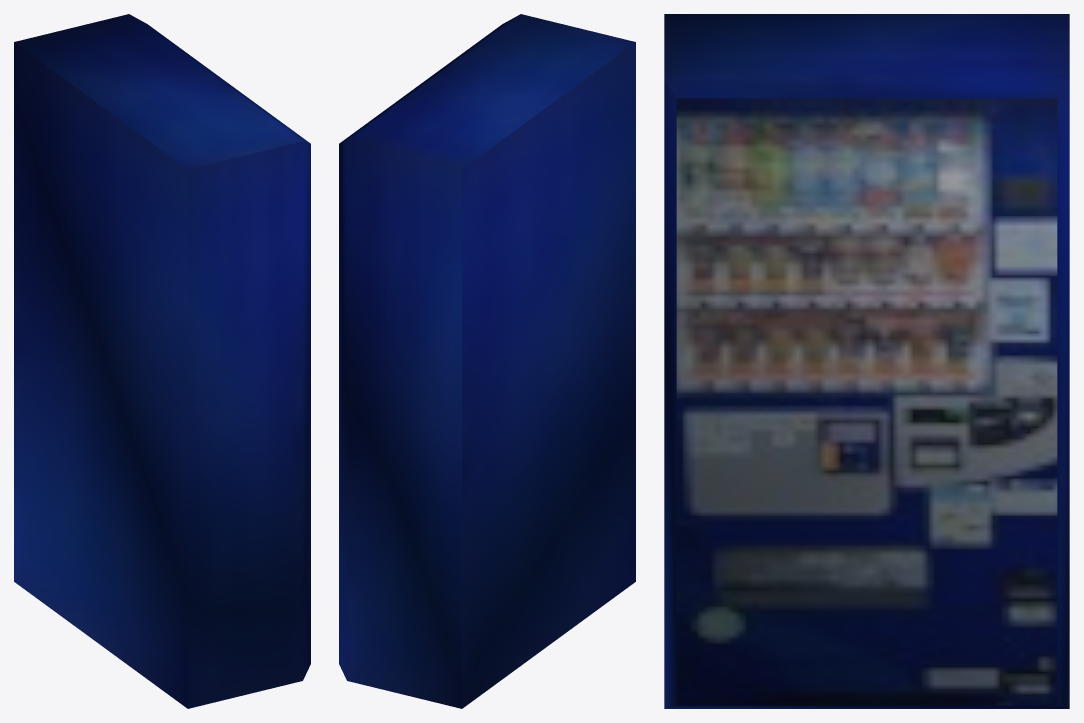
File: prop.vending_02.glb
The picture shows the model from 3 angles, left to right: view 1: azimuth 30°, elevation 25°; view 2: azimuth 150°, elevation 25°; view 3: azimuth 270°, elevation 25°; orthographic projection. The views are drawn at different scales.
Visible parts, largest first — view 1: Cube001; view 2: Cube001; view 3: Cube001.
Part boxes in pixels (box(x1,y1,x2,y2)): Cube001: box(14, 14, 310, 708); Cube001: box(339, 14, 635, 708); Cube001: box(664, 14, 1069, 708).
Bounding box in the file's own units: 0.4479 × 1.8 × 1.05.
Materials: 1 (1 with a texture image).
